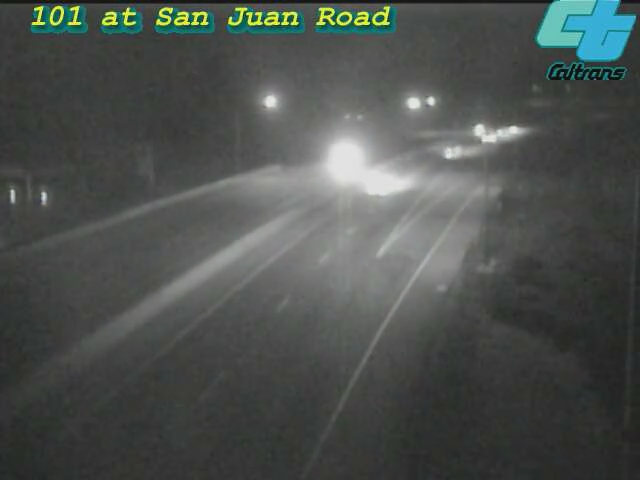vehicle: (312, 117, 392, 197), (350, 139, 430, 219), (454, 102, 504, 152), (489, 104, 539, 154), (470, 109, 520, 159), (430, 126, 480, 176)
